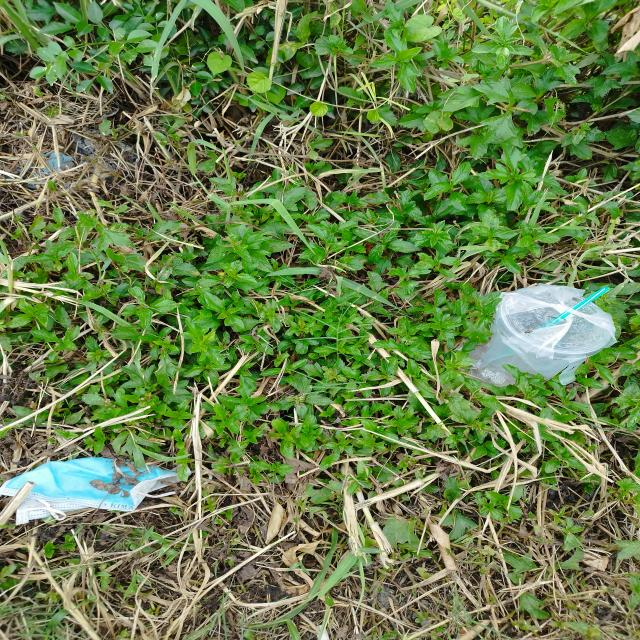drinking straw: (541, 286, 611, 328)
mask: (0, 457, 184, 524)
plastic glass: (456, 282, 618, 386)
